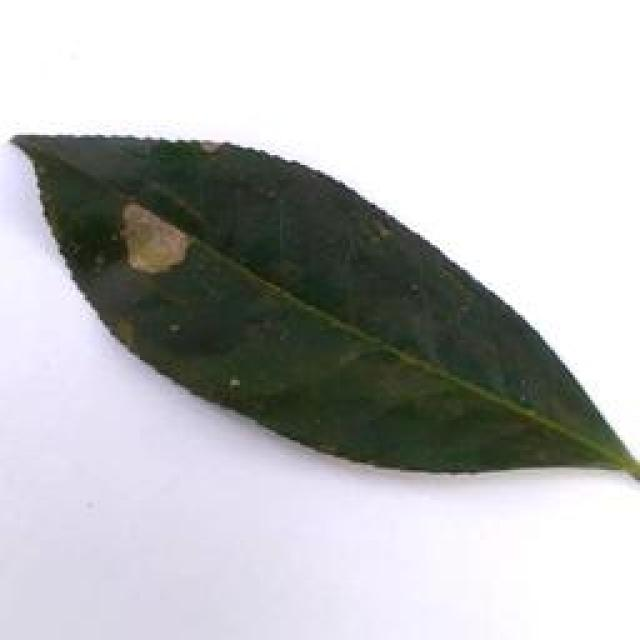Gray Blight: (16, 131, 640, 480)
